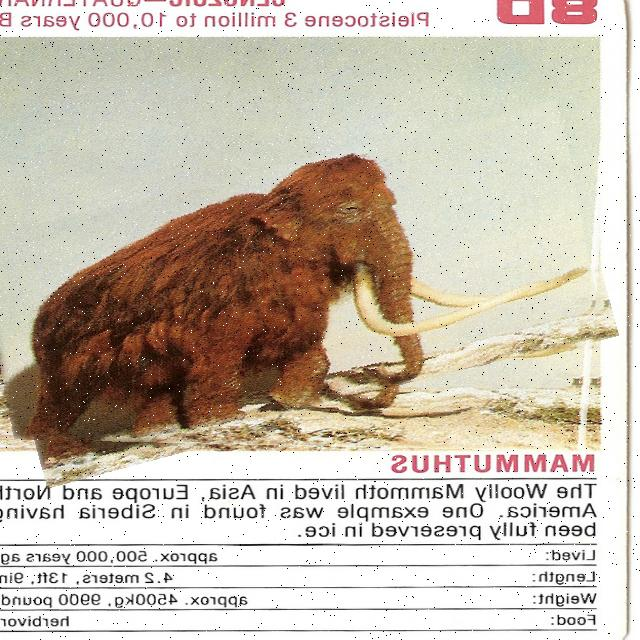elephant: (0, 135, 608, 452)
